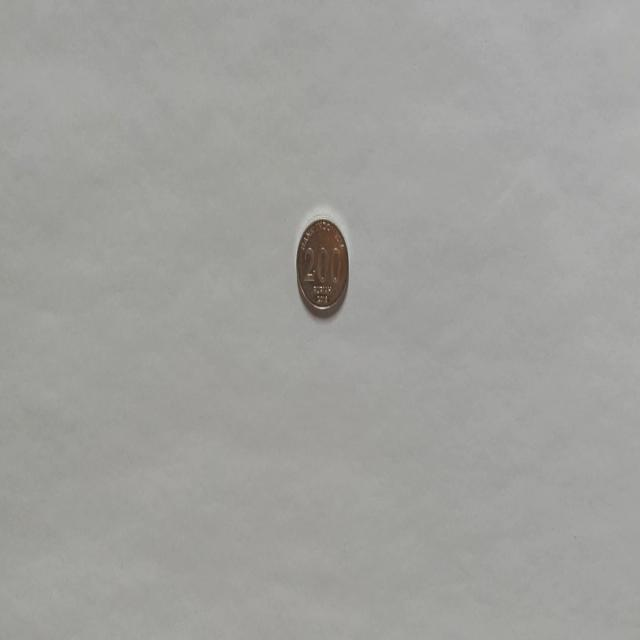dua ratus rupiah: (295, 214, 349, 318)
